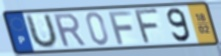0: (85, 11, 111, 47)
9: (166, 7, 192, 43)
F: (134, 8, 161, 46), (107, 10, 134, 46)
R: (51, 12, 89, 49)
U: (25, 12, 59, 50)
